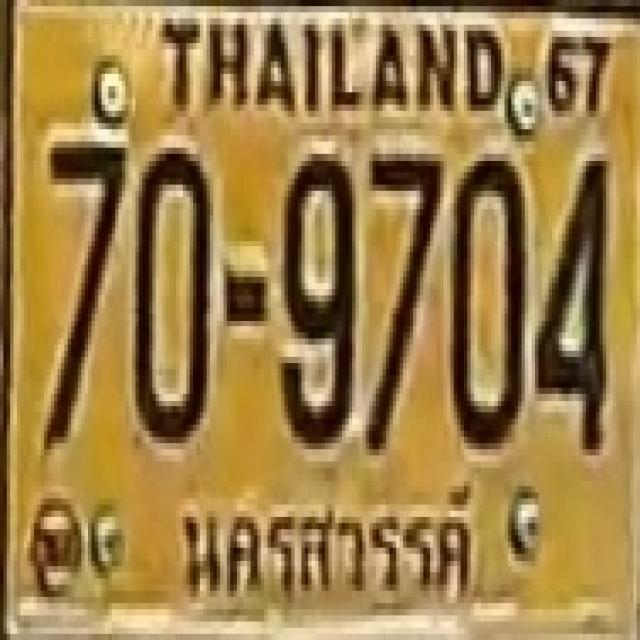0: (132, 141, 207, 437), (447, 151, 521, 440)
4: (535, 151, 606, 446)
7: (44, 135, 122, 443), (362, 148, 440, 449)
9: (278, 148, 352, 443)
NSN: (166, 472, 479, 614)
